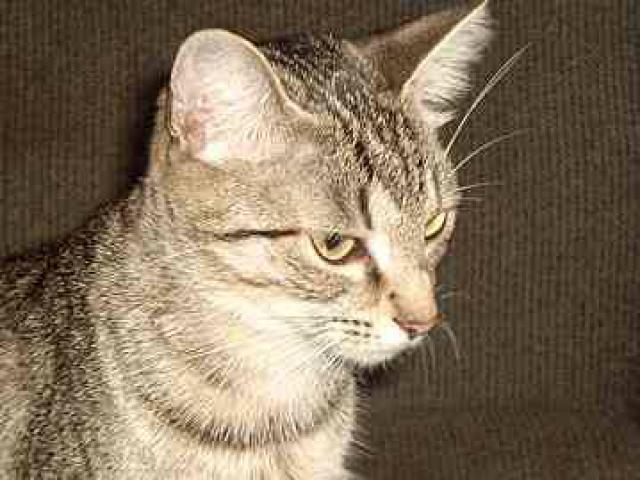cat: (4, 12, 513, 479)
